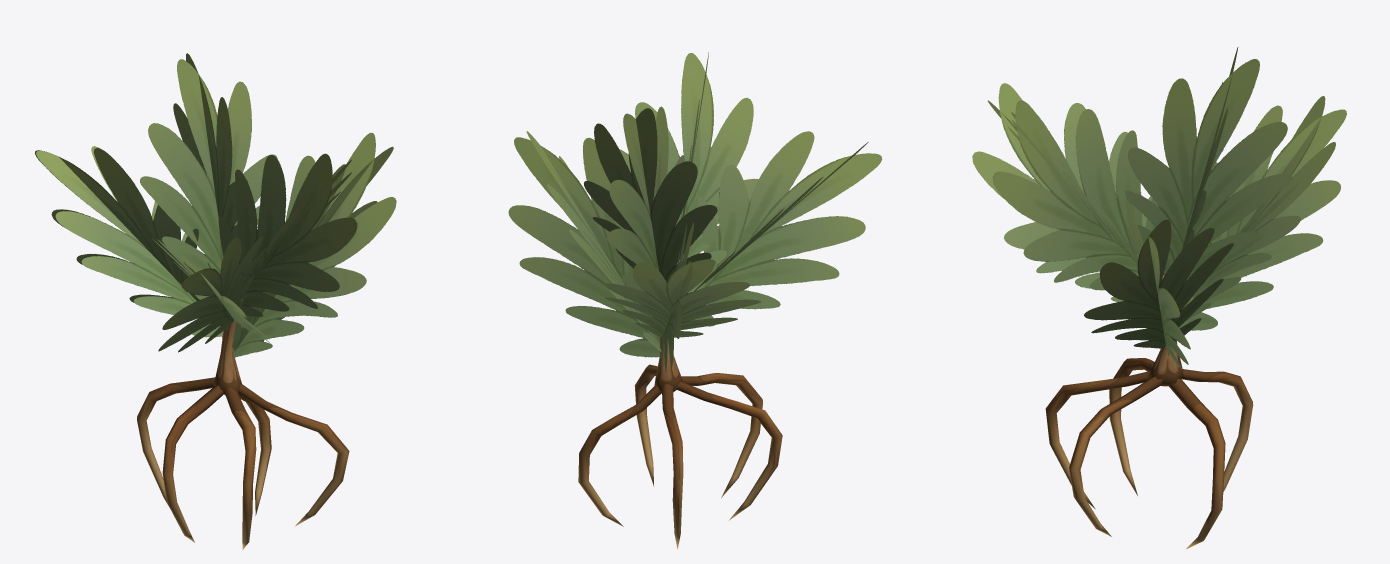
The model's file is DTree2.fbx.
3 views of the same model, side by side, from view 1: azimuth 30°, elevation 25°; view 2: azimuth 150°, elevation 25°; view 3: azimuth 270°, elevation 25° (orthographic). The views are drawn at different scales.
Visible parts, largest first — view 1: G_D2Leafs, G_D2Trunk; view 2: G_D2Leafs, G_D2Trunk; view 3: G_D2Leafs, G_D2Trunk.
Part boxes in pixels (x1,y1,x2,y2): G_D2Leafs: (35, 53, 396, 358); G_D2Trunk: (137, 299, 349, 549); G_D2Leafs: (508, 52, 882, 372); G_D2Trunk: (578, 337, 782, 548); G_D2Leafs: (972, 47, 1346, 368); G_D2Trunk: (1045, 275, 1253, 549).
Bounding box in the file's own units: 342 × 441 × 343.
